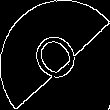O_SE: (24, 21, 86, 89)
